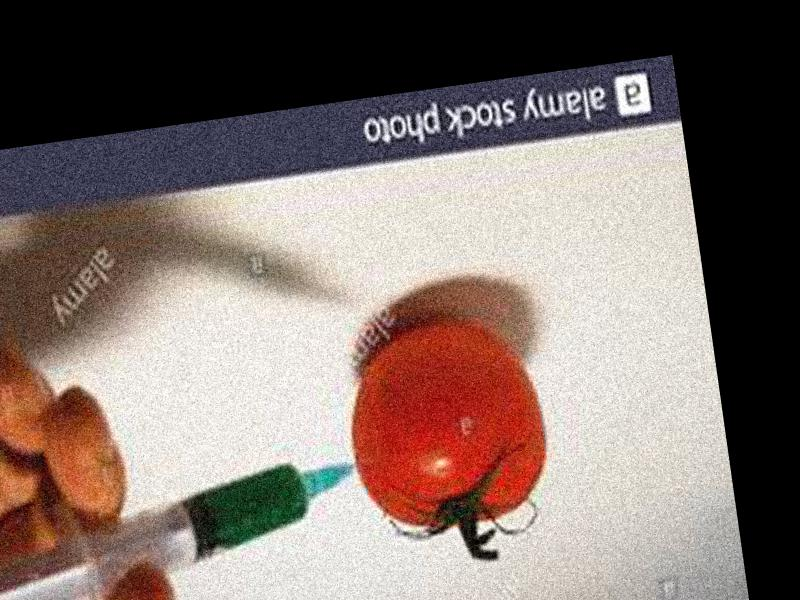Tomato: (337, 310, 553, 536)
